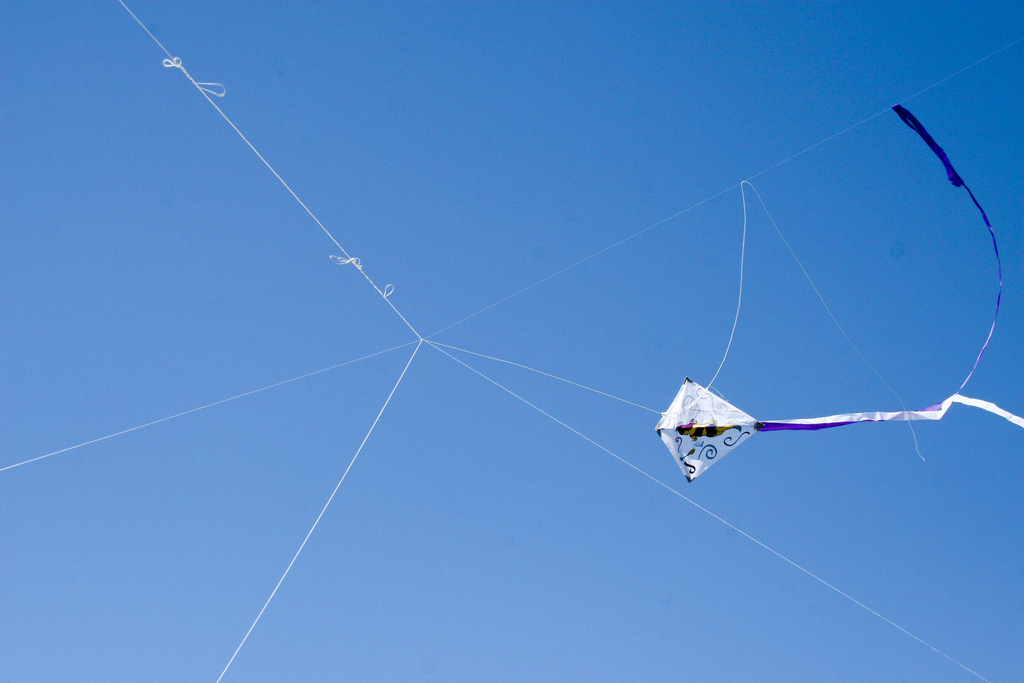kite: (654, 373, 1016, 482)
